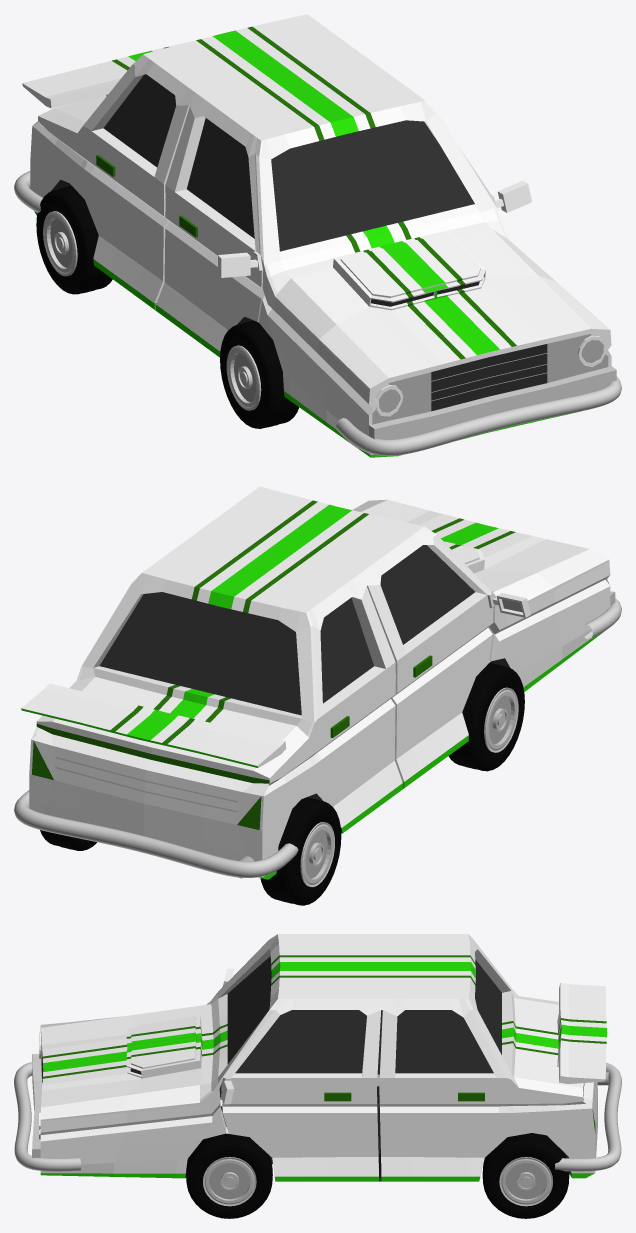
The model's file is CR-CAR-18A.fbx.
3 renders of one model, top to bottom at view 1: azimuth 30°, elevation 25°; view 2: azimuth 150°, elevation 25°; view 3: azimuth 270°, elevation 25°, orthographic. The views are drawn at different scales.
Parts seen in each view (by area): view 1: BODY, WHEEL.001, WHEEL.004, NurbsPath, NurbsPath.001; view 2: BODY, WHEEL.004, WHEEL.001, NurbsPath.001, NurbsPath, WHEEL.002; view 3: BODY, WHEEL.003, WHEEL.002, NurbsPath, NurbsPath.001.
Boxes of the visible parts, x1,y1,x2,y2 form: BODY: (22,14,616,457); WHEEL.001: (220,320,298,428); WHEEL.004: (36,186,112,294); NurbsPath: (336,376,621,455); NurbsPath.001: (14,171,42,212); BODY: (21,486,615,879); WHEEL.004: (260,797,341,905); WHEEL.001: (448,663,524,771); NurbsPath.001: (14,790,298,877); NurbsPath: (584,598,621,639); WHEEL.002: (40,830,96,850); BODY: (32,934,607,1181); WHEEL.003: (186,1133,272,1218); WHEEL.002: (482,1133,569,1218); NurbsPath: (14,1062,80,1171); NurbsPath.001: (555,1062,621,1171).
Size of the model in its own units: 131 by 102 by 274.
